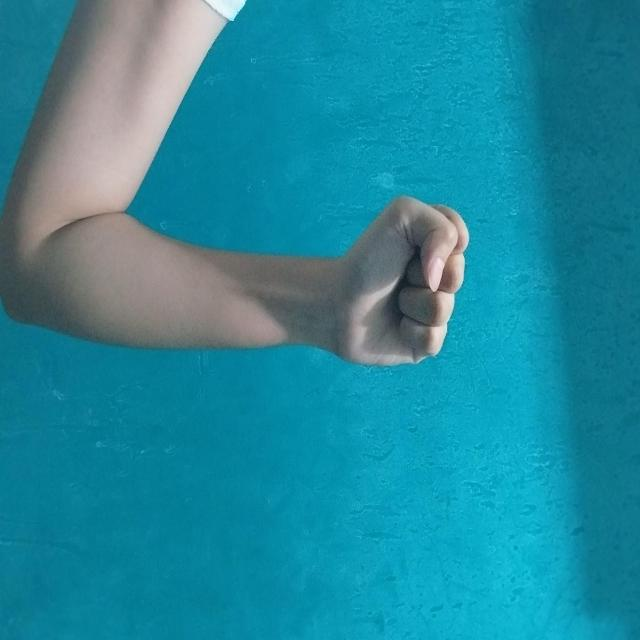S: (189, 166, 369, 300)
